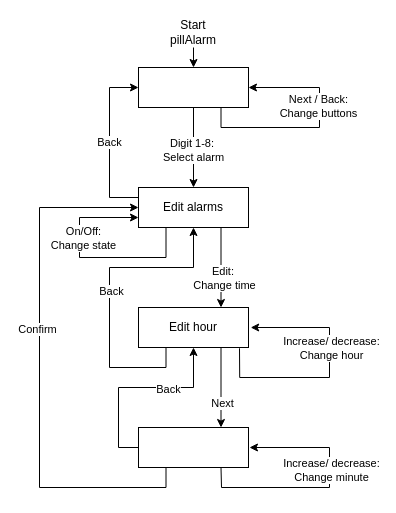
The diagram is 396 pixels wide and 513 high, and some of its shapes have lost their labels. The centre of each missing label's shape, as x and y in pixels:
"Edit minute" goes at point (193, 447).
"Overview alarms" goes at point (193, 87).
